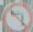Don't turn left: (0, 2, 32, 30)
